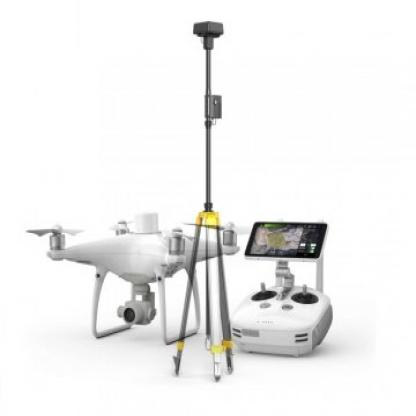drone: (27, 204, 268, 338)
